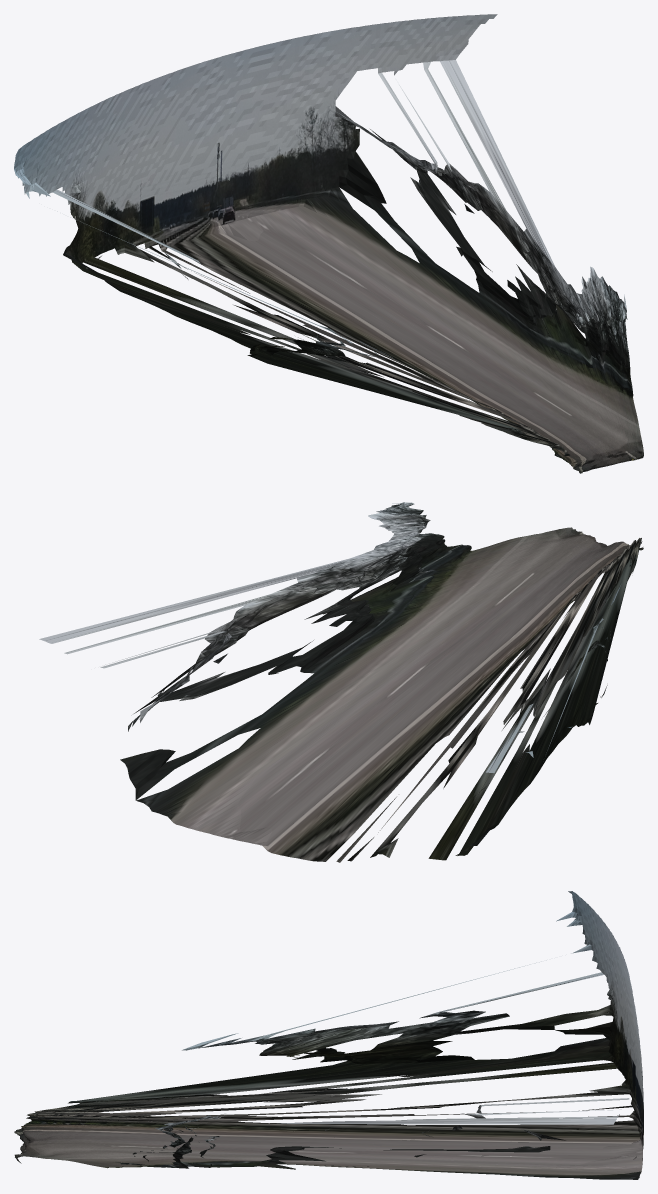
The picture shows the model from 3 angles, top to bottom: view 1: azimuth 30°, elevation 25°; view 2: azimuth 150°, elevation 25°; view 3: azimuth 270°, elevation 25°; orthographic projection. The views are drawn at different scales.
Visible parts, largest first — view 1: defaultobject; view 2: defaultobject; view 3: defaultobject.
Boxes of the visible parts, x1,y1,x2,y2 form: defaultobject: [14, 14, 643, 473]; defaultobject: [39, 502, 643, 862]; defaultobject: [14, 891, 643, 1179].
Bounding box in the file's own units: 35.87 × 12.5 × 44.63.
1 material, 1 textured.
